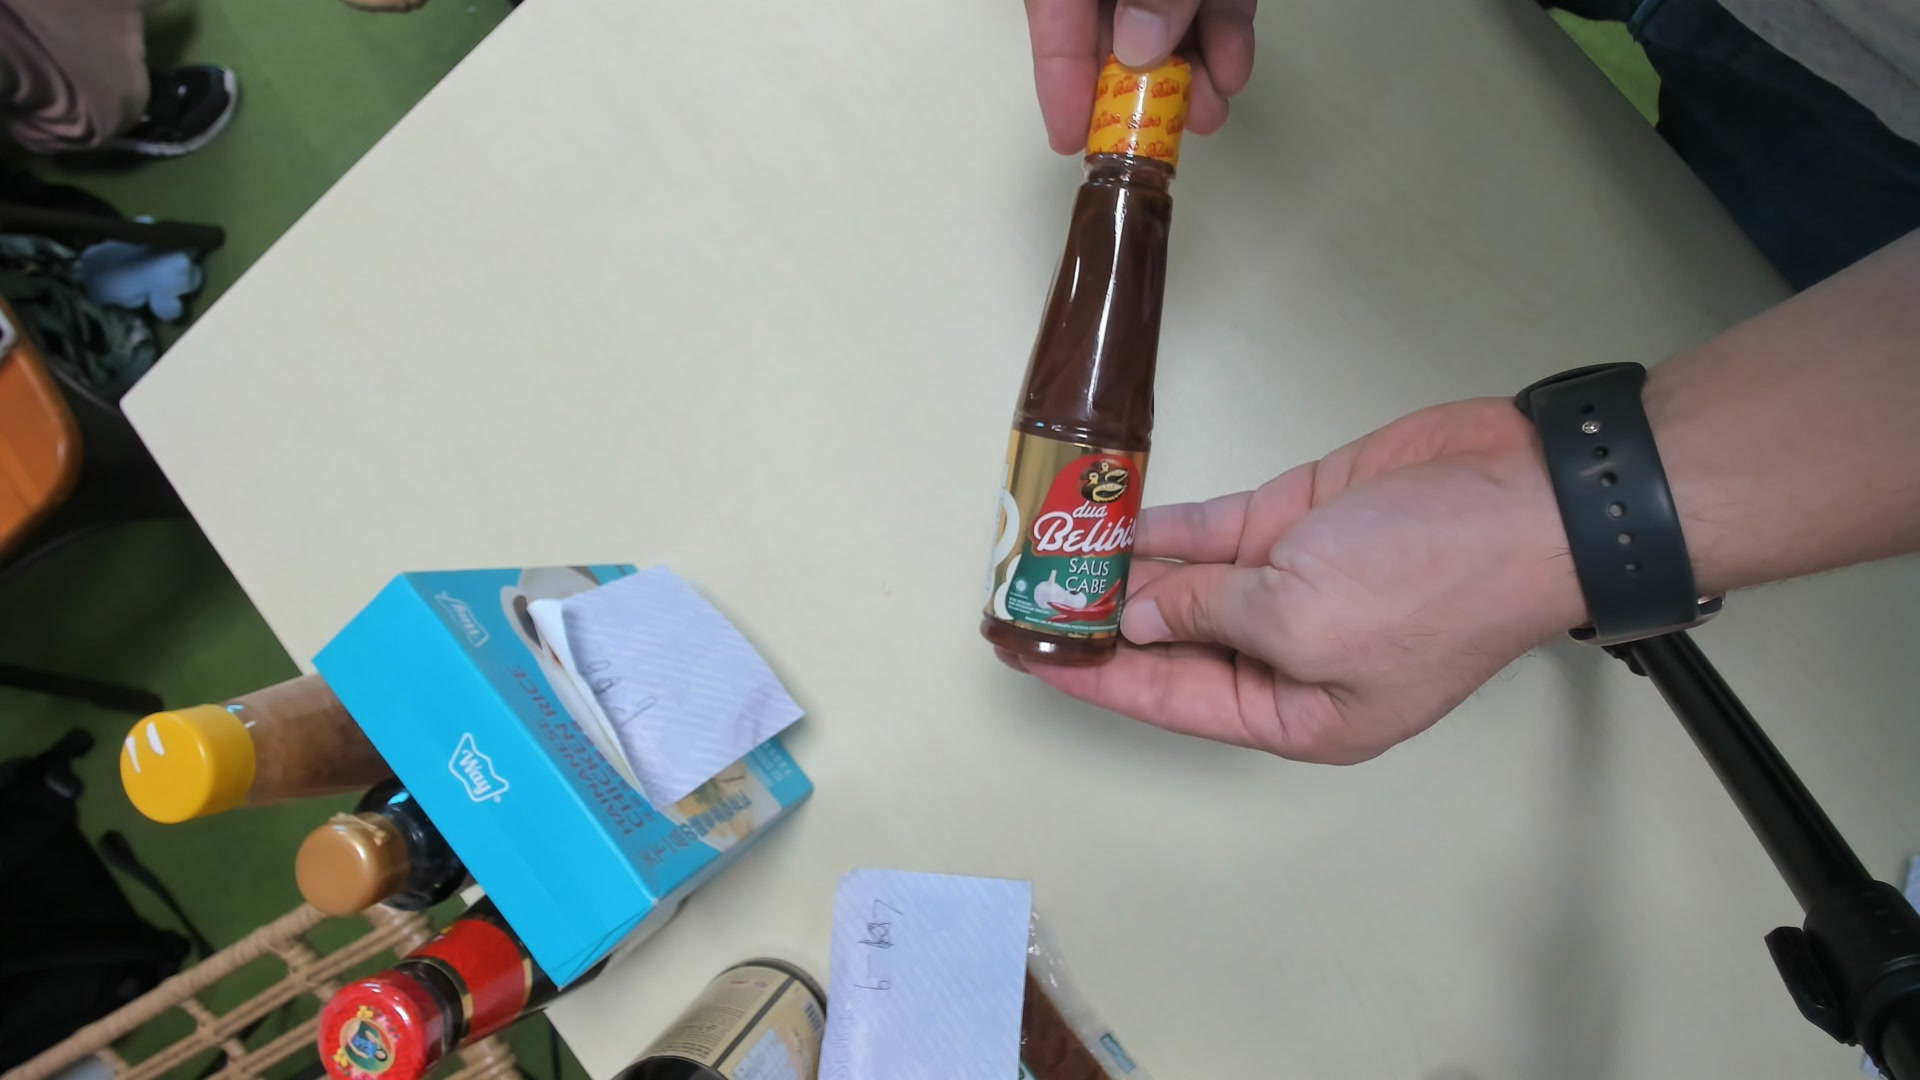KetchupChillSauce_100-199g_Halal_NonHealthy: (978, 41, 1193, 669)
